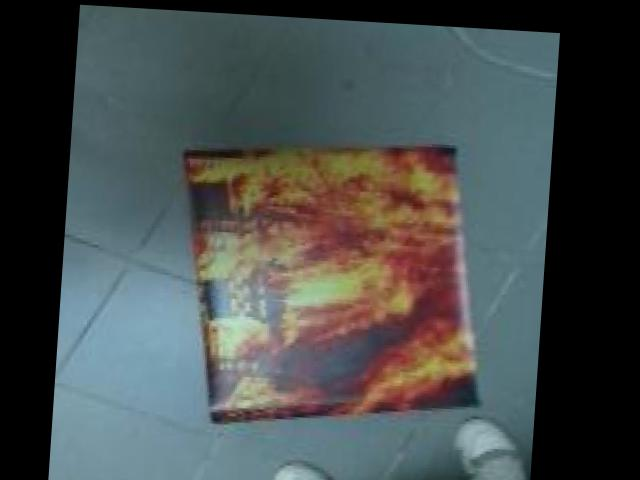fire-poster: (170, 120, 501, 438)
